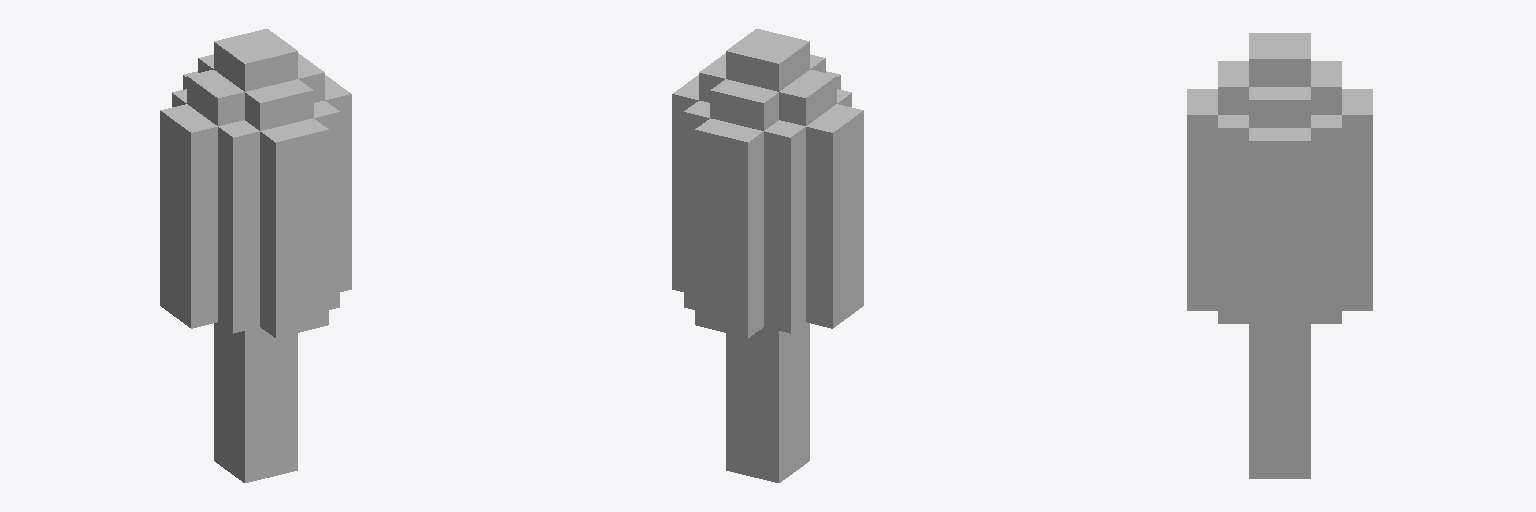
File: Birch_Tree (Stage 4).obj
The picture shows the model from 3 angles: view 1: azimuth 30°, elevation 25°; view 2: azimuth 150°, elevation 25°; view 3: azimuth 270°, elevation 25°; orthographic projection.
Parts seen in each view (by area): view 1: object 1; view 2: object 1; view 3: object 1.
Part boxes in pixels (x1,y1,x2,y2): object 1: (160, 29, 351, 482); object 1: (672, 29, 863, 482); object 1: (1187, 33, 1372, 478).
Bounding box in the file's own units: 0.6 × 1.5 × 0.6.